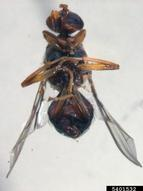Fruit fly: (16, 7, 109, 131)
